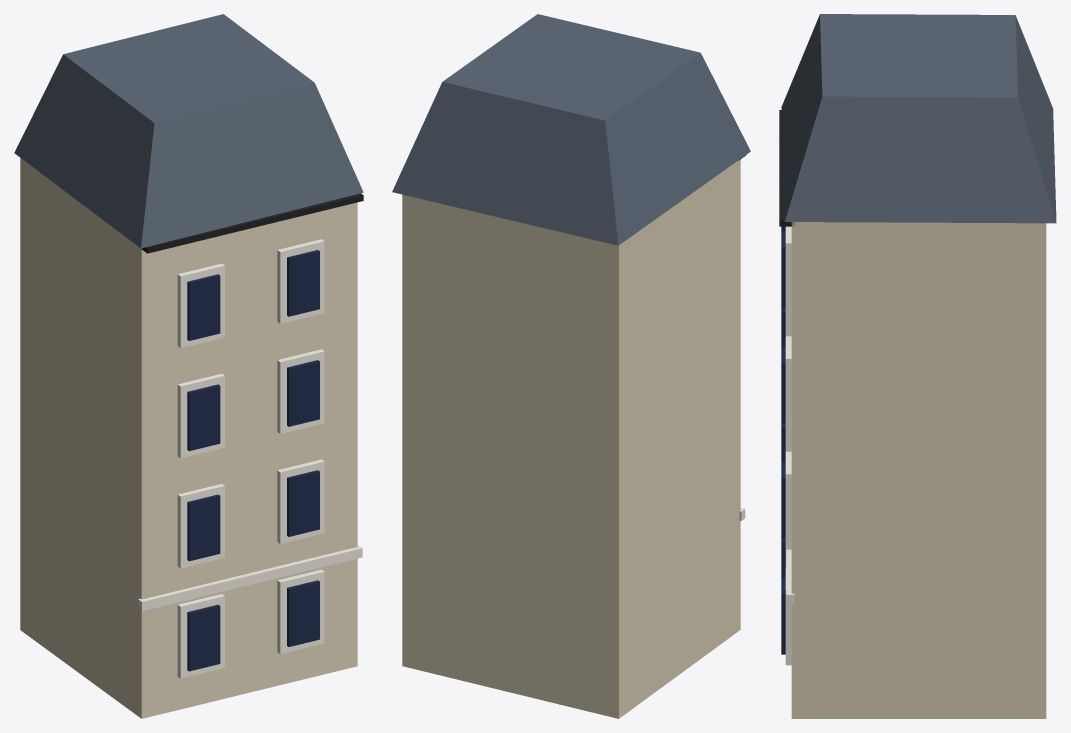
The model's file is kamienica_paryz_0.glb.
The picture shows the model from 3 angles, left to right: view 1: azimuth 30°, elevation 25°; view 2: azimuth 150°, elevation 25°; view 3: azimuth 270°, elevation 25°; orthographic projection. The views are drawn at different scales.
Parts seen in each view (by area): view 1: kamienica_paryz_0; view 2: kamienica_paryz_0; view 3: kamienica_paryz_0.
Part boxes in pixels (x1,y1,x2,y2): kamienica_paryz_0: (14,14,363,718); kamienica_paryz_0: (392,14,750,718); kamienica_paryz_0: (779,14,1056,718).
Size of the model in its own units: 2.05 by 5 by 2.07.
